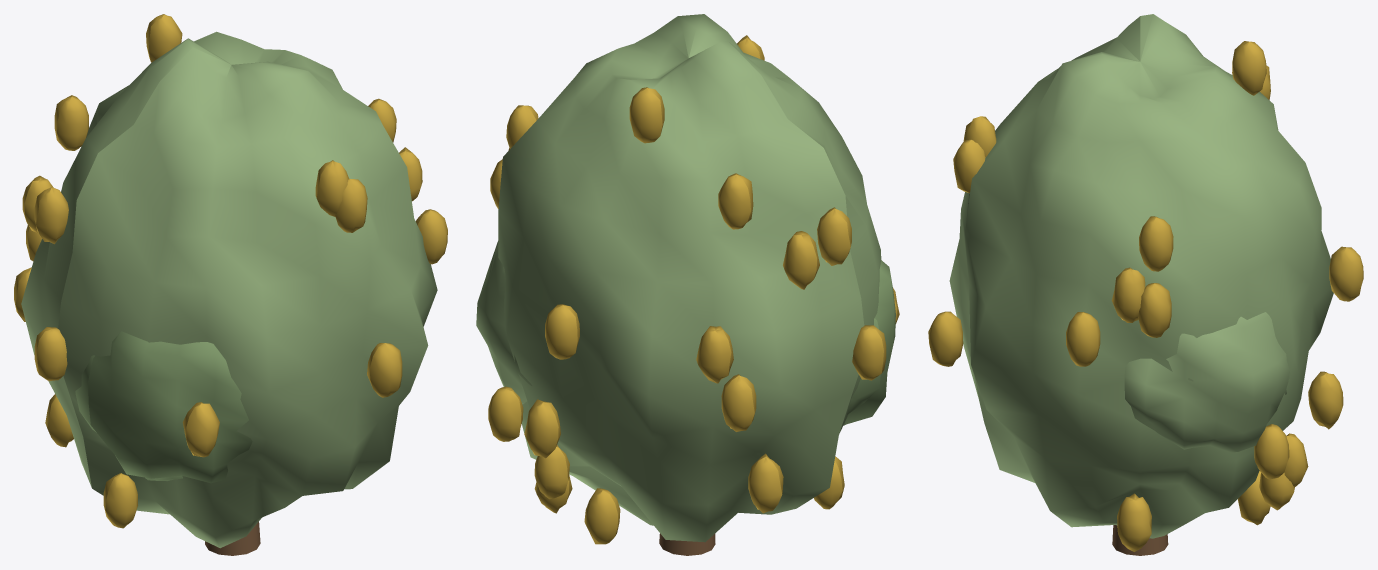
The model's file is korte.glb.
3 views of the same model, side by side, from view 1: azimuth 30°, elevation 25°; view 2: azimuth 150°, elevation 25°; view 3: azimuth 270°, elevation 25° (orthographic).
Parts seen in each view (by area): view 1: korona-1, korona-2, termes-20, termes-13, termes-11, termes-6, termes-16, termes-10, termes-24, termes-2, termes-23, termes-3 (+5 smaller); view 2: korona-1, korona-3, korona-2, termes-21, termes-3, termes-6, termes-7, termes-14, termes-18, termes-9, termes-13, termes-15 (+7 smaller); view 3: korona-1, korona-3, termes-22, termes-14, termes-18, termes-20, termes-23, termes-8, termes-5, termes-15, termes-3, termes-1 (+6 smaller).
Boxes of the visible parts, x1,y1,x2,y2 form: korona-1: [21, 31, 437, 548]; korona-2: [75, 331, 252, 483]; termes-20: [367, 343, 402, 397]; termes-13: [54, 95, 88, 150]; termes-11: [182, 402, 219, 457]; termes-6: [34, 187, 68, 244]; termes-16: [103, 473, 137, 528]; termes-10: [34, 327, 67, 381]; termes-24: [315, 160, 348, 216]; termes-2: [335, 178, 367, 232]; termes-23: [416, 209, 447, 264]; termes-3: [146, 14, 182, 62]; korona-1: [498, 14, 881, 542]; korona-3: [476, 241, 532, 404]; korona-2: [843, 260, 895, 425]; termes-21: [721, 374, 756, 431]; termes-3: [629, 87, 664, 143]; termes-6: [817, 207, 851, 265]; termes-7: [696, 326, 733, 383]; termes-14: [524, 399, 560, 458]; termes-18: [545, 304, 579, 359]; termes-9: [748, 453, 783, 513]; termes-13: [718, 173, 753, 229]; termes-15: [488, 386, 523, 441]; korona-1: [949, 14, 1333, 538]; korona-3: [1124, 312, 1289, 452]; termes-22: [1117, 493, 1151, 551]; termes-14: [1308, 371, 1343, 429]; termes-18: [1329, 246, 1363, 301]; termes-20: [928, 311, 963, 366]; termes-23: [1066, 312, 1100, 366]; termes-8: [1139, 216, 1173, 271]; termes-5: [1138, 283, 1171, 337]; termes-15: [1254, 424, 1289, 479]; termes-3: [1232, 41, 1266, 95]; termes-1: [1111, 267, 1145, 322].
Size of the model in its own units: 3.31 by 4.25 by 3.27.
